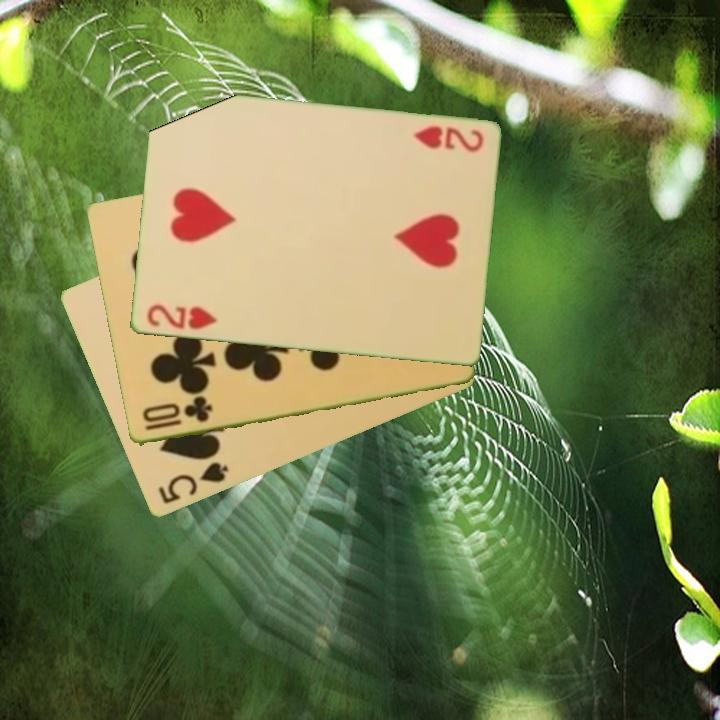10c: (138, 395, 215, 434)
2h: (410, 122, 486, 156), (143, 301, 219, 333)
5s: (154, 459, 232, 508)
